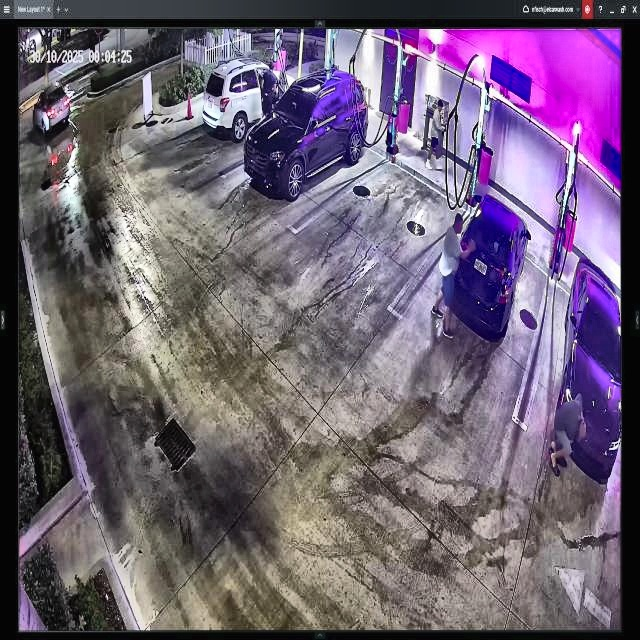Car: (246, 68, 367, 200), (446, 192, 533, 343)
